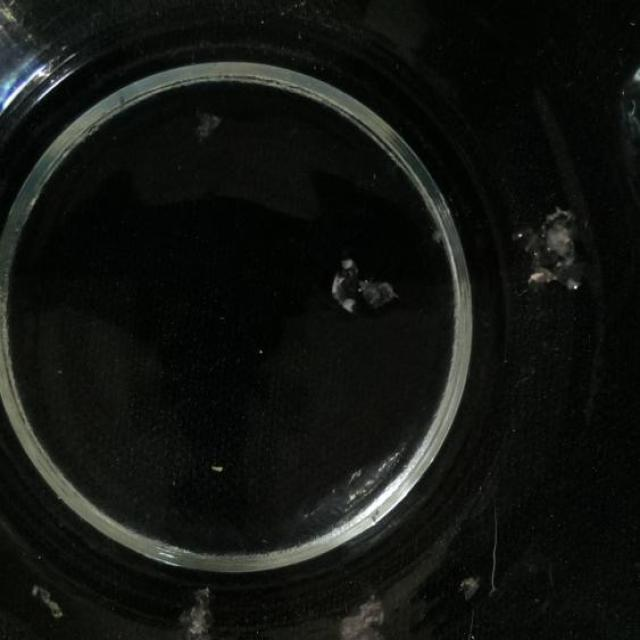fiber: (511, 207, 591, 301), (328, 258, 398, 320), (616, 65, 640, 187), (339, 597, 391, 640), (178, 588, 216, 640), (30, 583, 63, 624), (192, 108, 226, 144), (459, 576, 479, 602)
